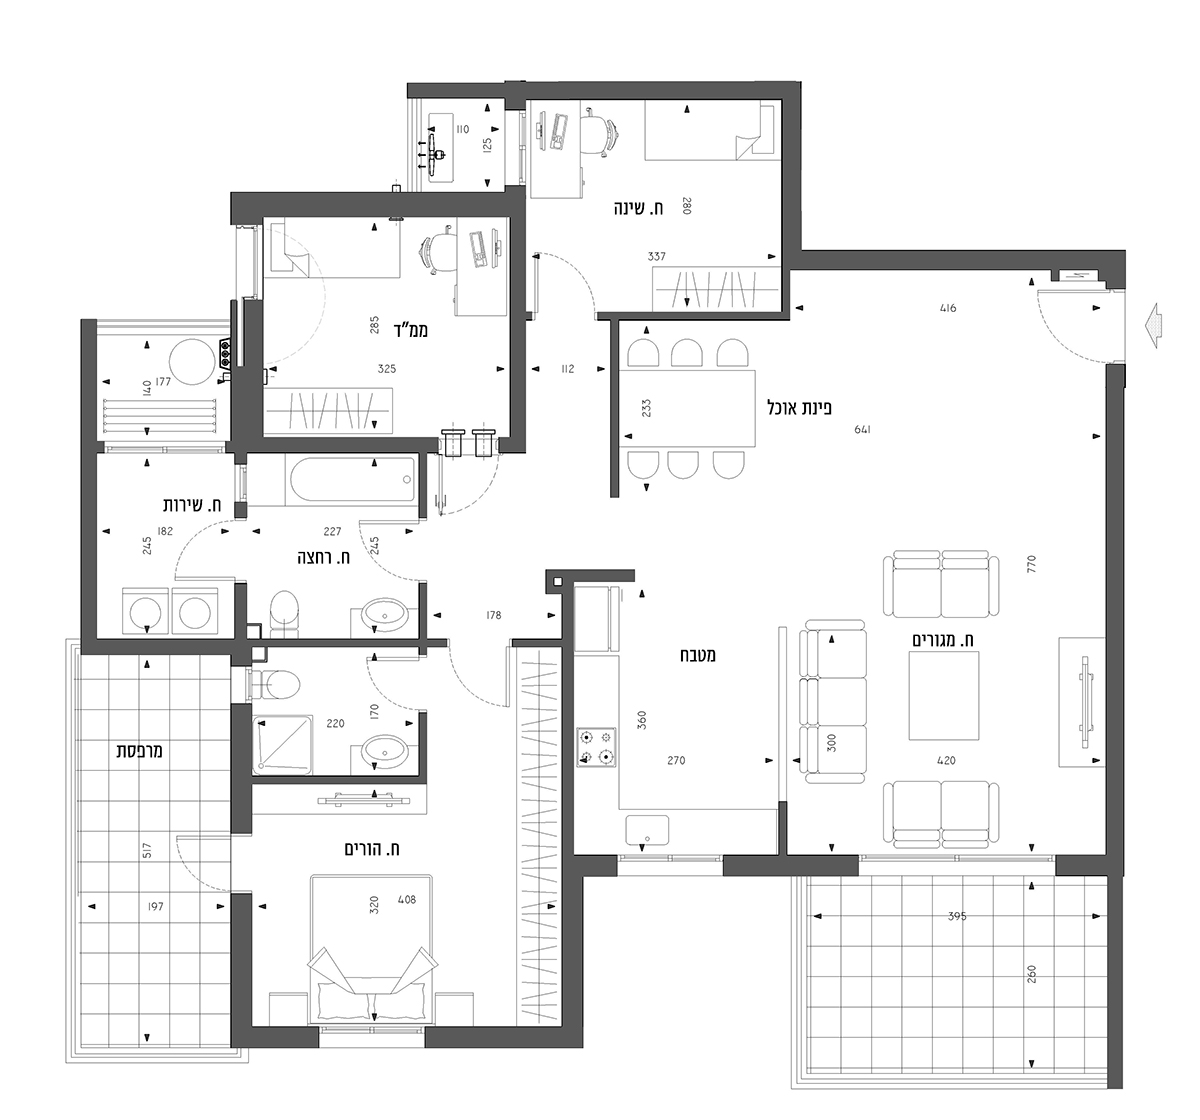door: (1035, 283, 1123, 371), (522, 248, 609, 331), (441, 625, 520, 713), (349, 513, 421, 585), (167, 520, 238, 584), (362, 651, 416, 720)
room: (229, 775, 575, 1048), (231, 191, 527, 453), (509, 81, 791, 318), (233, 436, 427, 648), (80, 437, 247, 655), (229, 638, 428, 785)
wall: (1107, 365, 1125, 1089), (784, 249, 1126, 269), (79, 320, 97, 654), (561, 871, 584, 1048), (231, 893, 253, 1044)
window: (858, 853, 1056, 880), (167, 821, 229, 901), (316, 1023, 426, 1051), (232, 223, 266, 302), (617, 853, 725, 876), (406, 98, 426, 192), (105, 439, 226, 454), (505, 109, 527, 185), (229, 663, 256, 709)
